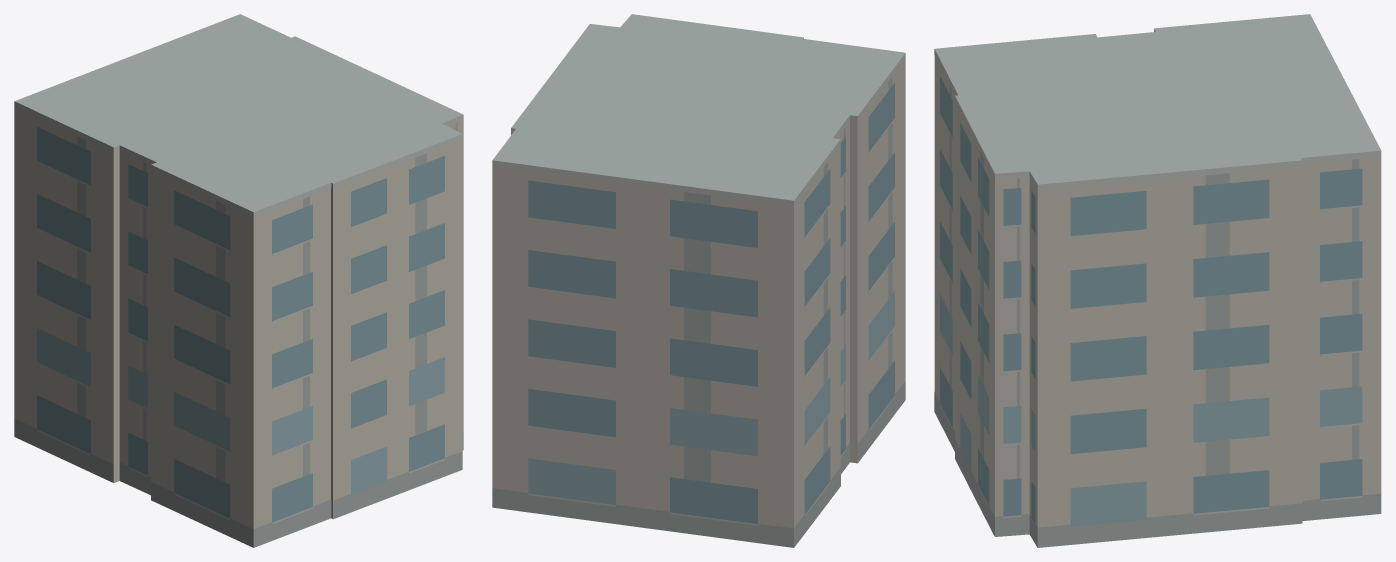
The model's file is survey-upis-32527574.glb.
3 views of the same model, side by side, from view 1: azimuth 30°, elevation 25°; view 2: azimuth 150°, elevation 25°; view 3: azimuth 270°, elevation 25° (orthographic). The views are drawn at different scales.
Visible parts, largest first — view 1: survey-upis-32527574.tmp; view 2: survey-upis-32527574.tmp; view 3: survey-upis-32527574.tmp.
Part boxes in pixels (x1,y1,x2,y2): survey-upis-32527574.tmp: (14, 14, 463, 547); survey-upis-32527574.tmp: (492, 14, 905, 547); survey-upis-32527574.tmp: (934, 14, 1381, 547).
Size of the model in its own units: 14.34 by 14.22 by 15.87.
